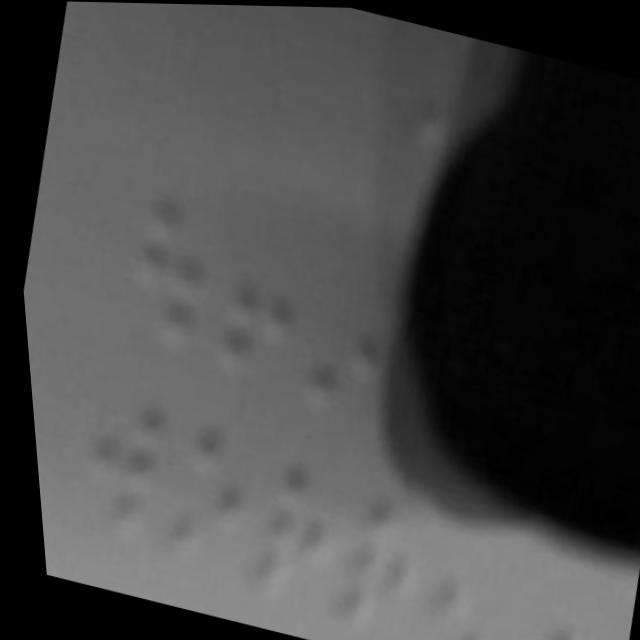braiile: (137, 409, 267, 590), (195, 221, 317, 400), (108, 181, 228, 362), (222, 442, 346, 616), (309, 480, 435, 640), (57, 383, 176, 549), (397, 524, 506, 640), (480, 538, 591, 640)
